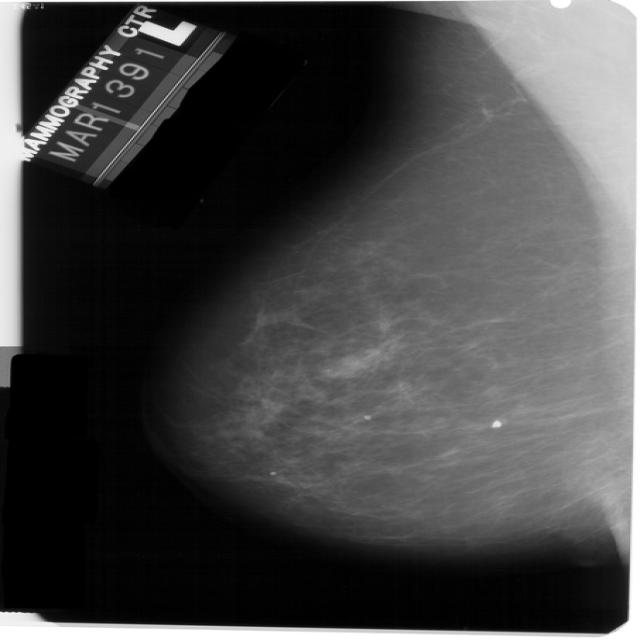tumour: (314, 354, 362, 379)
